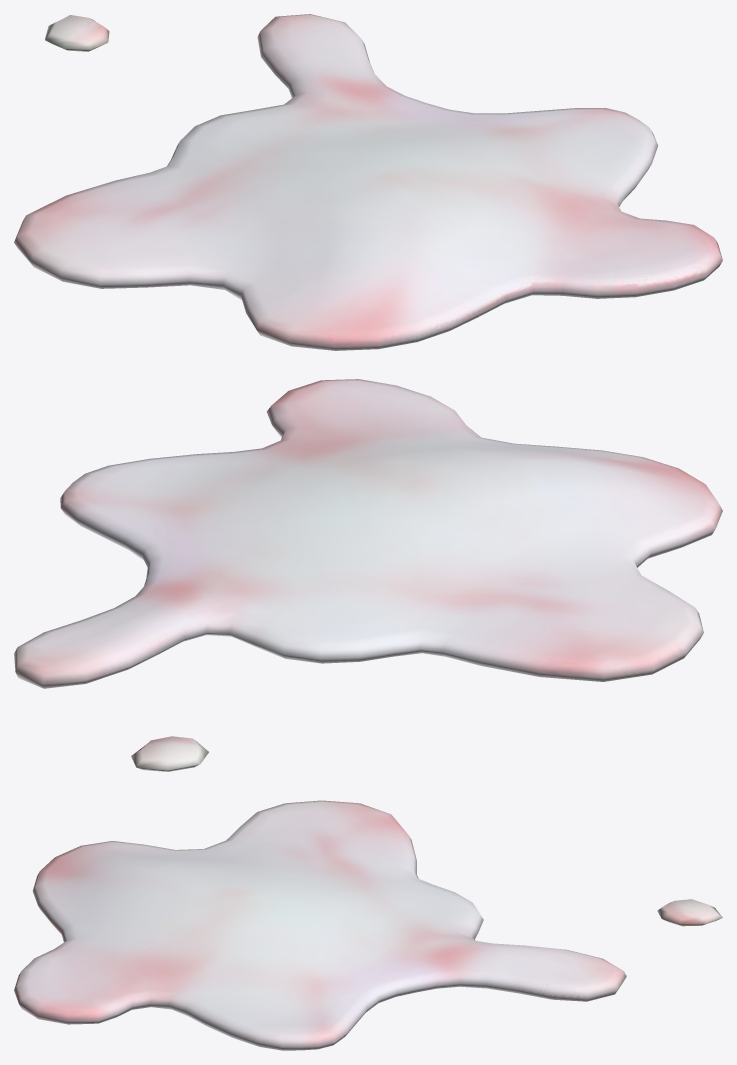
Rendered from Leukocyte_Dead.fbx.
The picture shows the model from 3 angles, top to bottom: view 1: azimuth 30°, elevation 25°; view 2: azimuth 150°, elevation 25°; view 3: azimuth 270°, elevation 25°; orthographic projection. The views are drawn at different scales.
Visible parts, largest first — view 1: Leukocyte_Dead; view 2: Leukocyte_Dead; view 3: Leukocyte_Dead.
Boxes of the visible parts, x1=… form: Leukocyte_Dead: x1=14, y1=14, x2=722, y2=350; Leukocyte_Dead: x1=14, y1=379, x2=722, y2=771; Leukocyte_Dead: x1=14, y1=800, x2=722, y2=1050.
Size of the model in its own units: 647 by 57.47 by 801.
